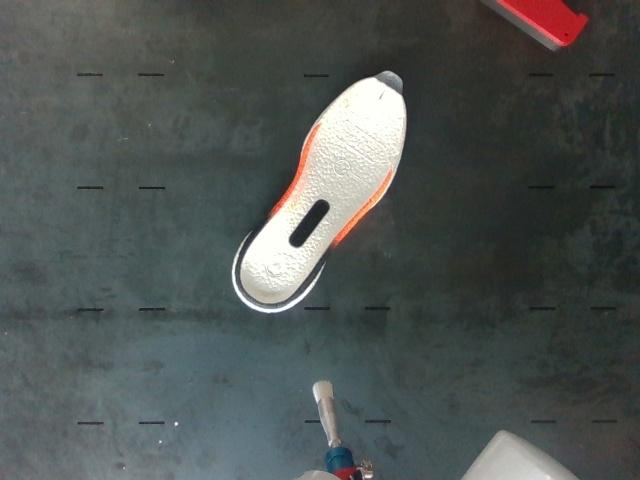shoes: (240, 72, 405, 304)
